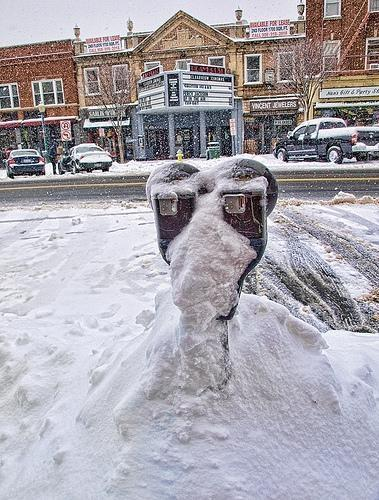car: (57, 145, 112, 174), (6, 149, 46, 179)
truck: (274, 118, 378, 163)
